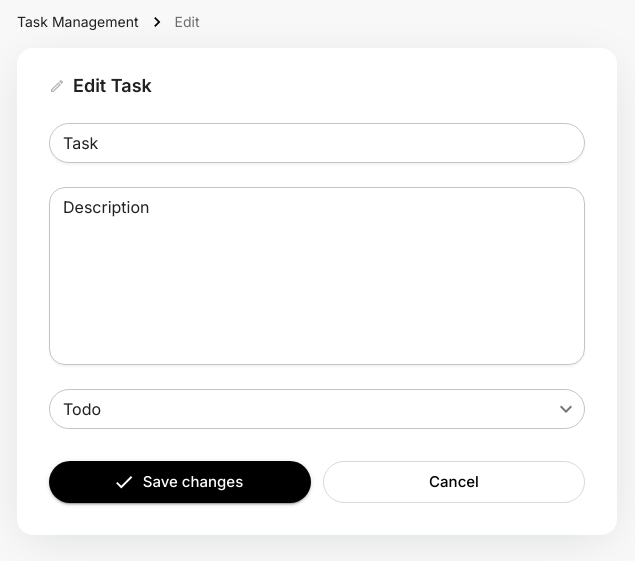
Test: available status options › for "todo" status
What coordinates should you click on to do the following:
click the dropdown
I would click on:
 (82, 409)
Its box is 63,399 -> 101,419.
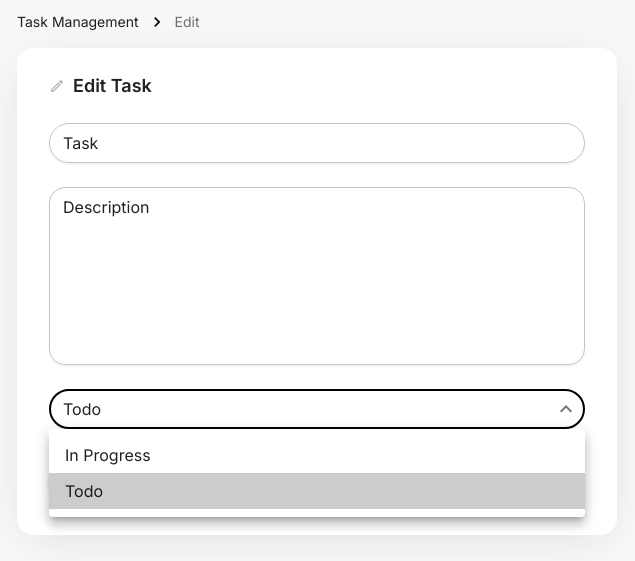
Expected: the option with test id "option-todo" is shown, 49,473 -> 585,509
Expected: the option with test id "option-inProgress" is shown, 65,445 -> 151,465
